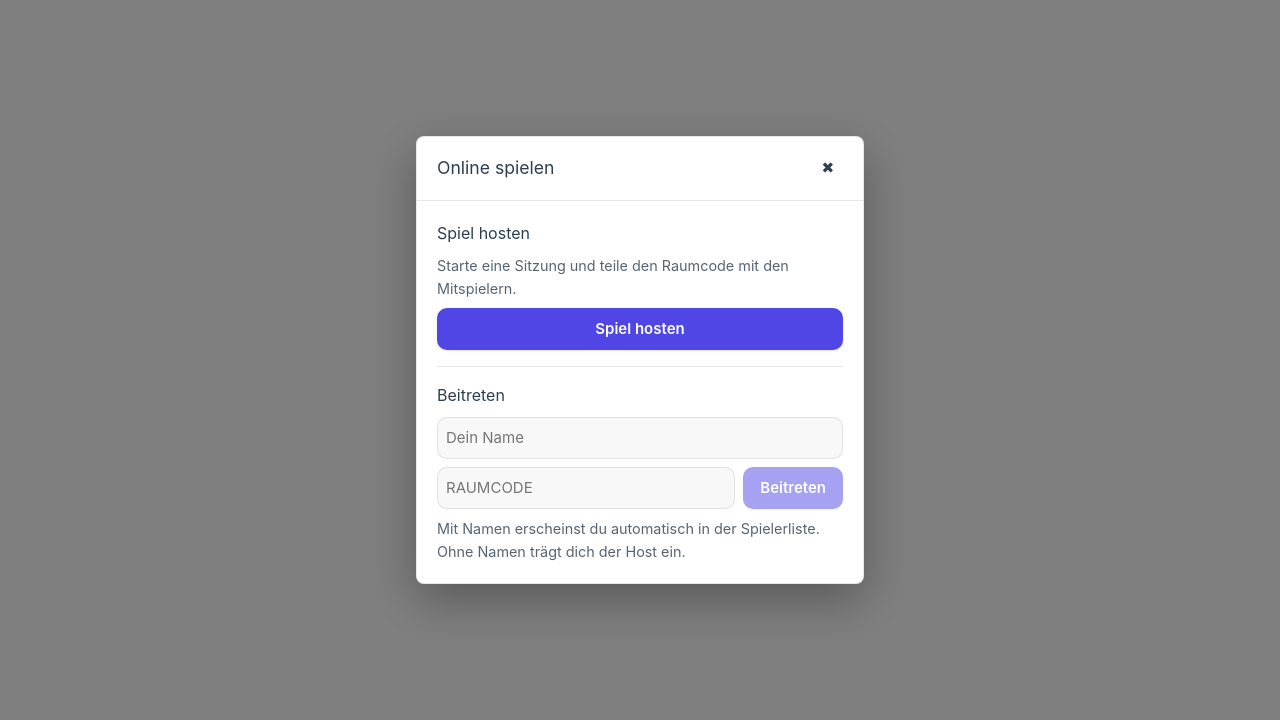
Test: multiplayer UI › LobbyModal › starts hosting and shows the room code
Click the button "Spiel hosten" at (640, 329), box 437,308 -> 843,350
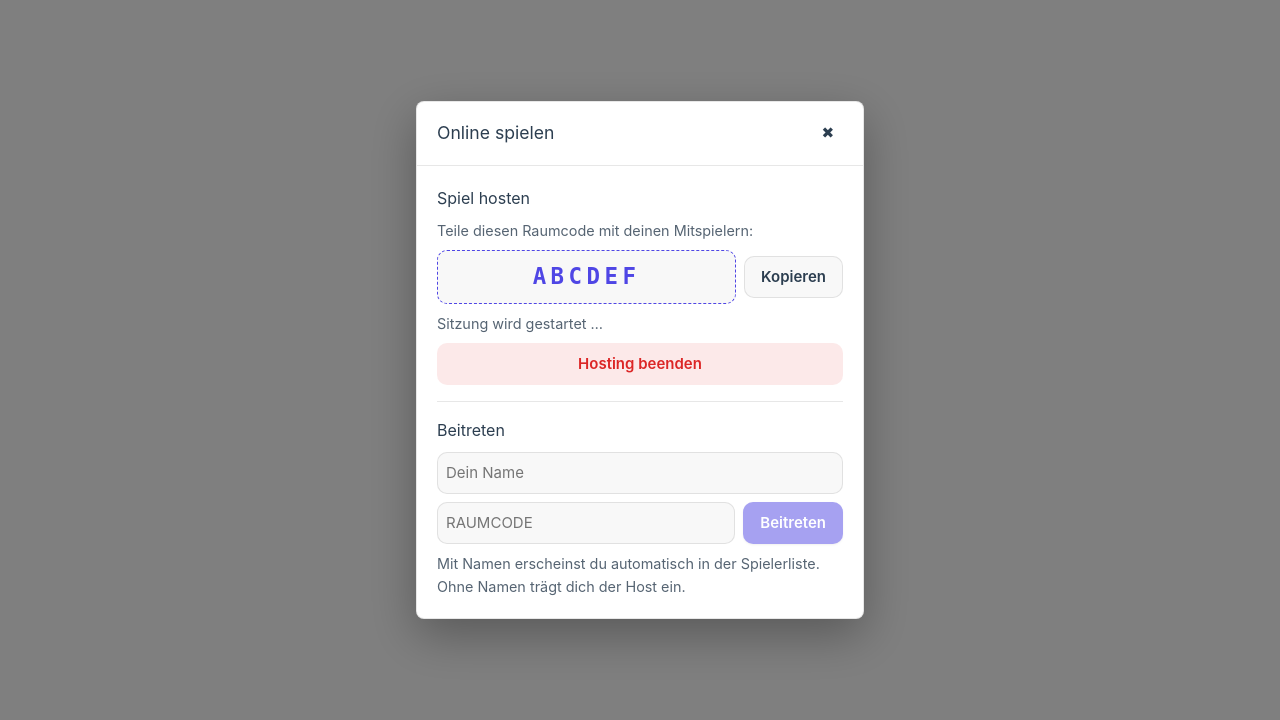
Expected: the text with class "room-code" reads "ABCDEF", 533,263 -> 640,289
